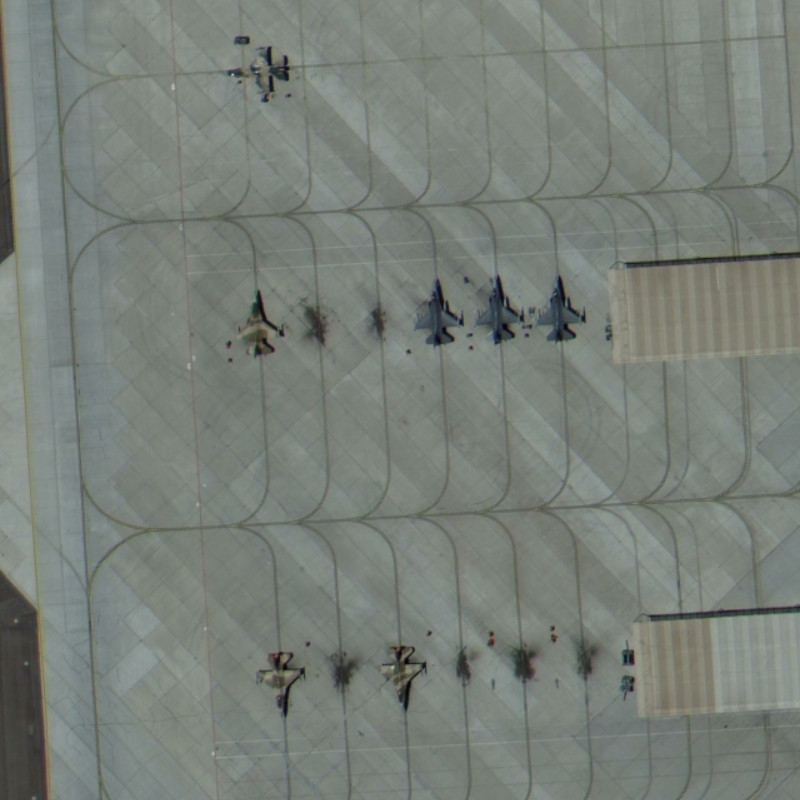A5: (213, 39, 298, 106), (372, 633, 437, 717), (229, 279, 290, 366), (529, 266, 592, 350), (409, 270, 470, 355), (254, 640, 314, 723), (471, 268, 528, 351)
